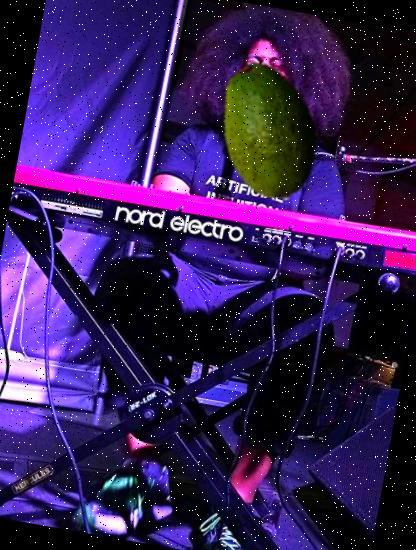Avocado: (186, 48, 352, 213)
